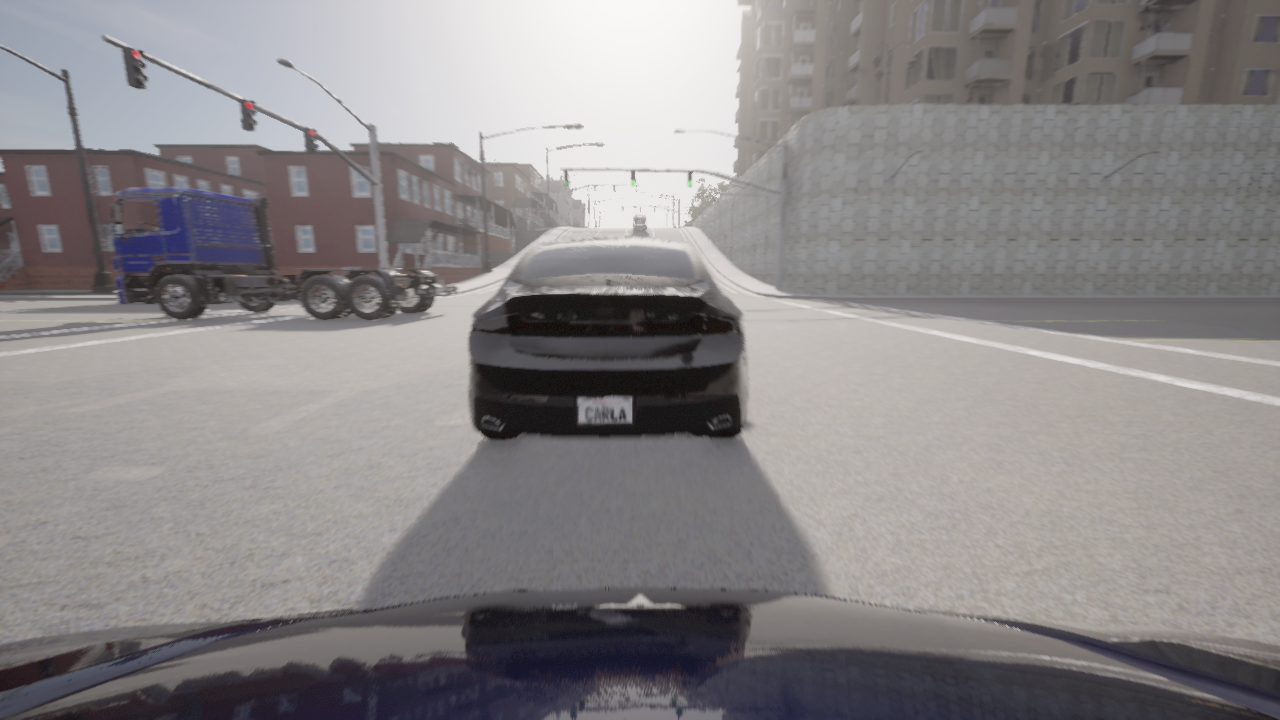cyclist: (0, 588, 1279, 719), (468, 236, 749, 440), (110, 187, 457, 320), (632, 221, 647, 233), (633, 214, 646, 222)
